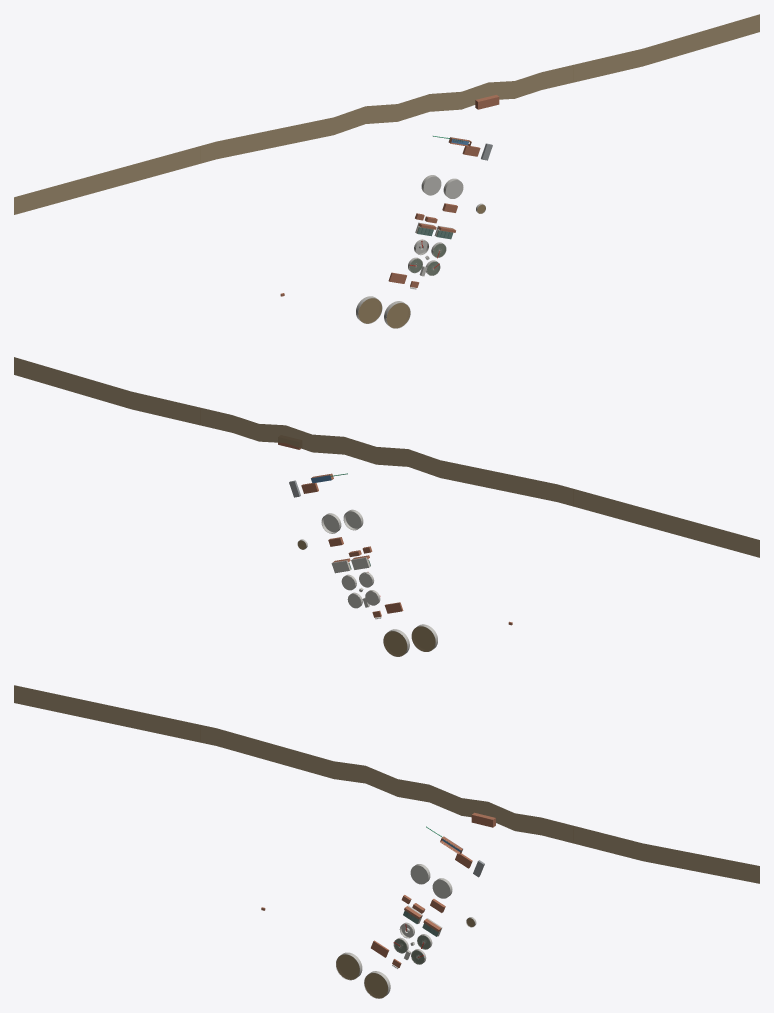
Rendered from riverbend.glb.
The picture shows the model from 3 angles, top to bottom: view 1: azimuth 30°, elevation 25°; view 2: azimuth 150°, elevation 25°; view 3: azimuth 330°, elevation 25°; orthographic projection.
Parts seen in each view (by area): view 1: RB_River; view 2: RB_River; view 3: RB_River.
Part boxes in pixels (x1=…): RB_River: x1=14, y1=14, x2=759, y2=214; RB_River: x1=14, y1=357, x2=759, y2=557; RB_River: x1=14, y1=685, x2=759, y2=883.
Size of the model in its own units: 1400 by 395 by 36.42.
